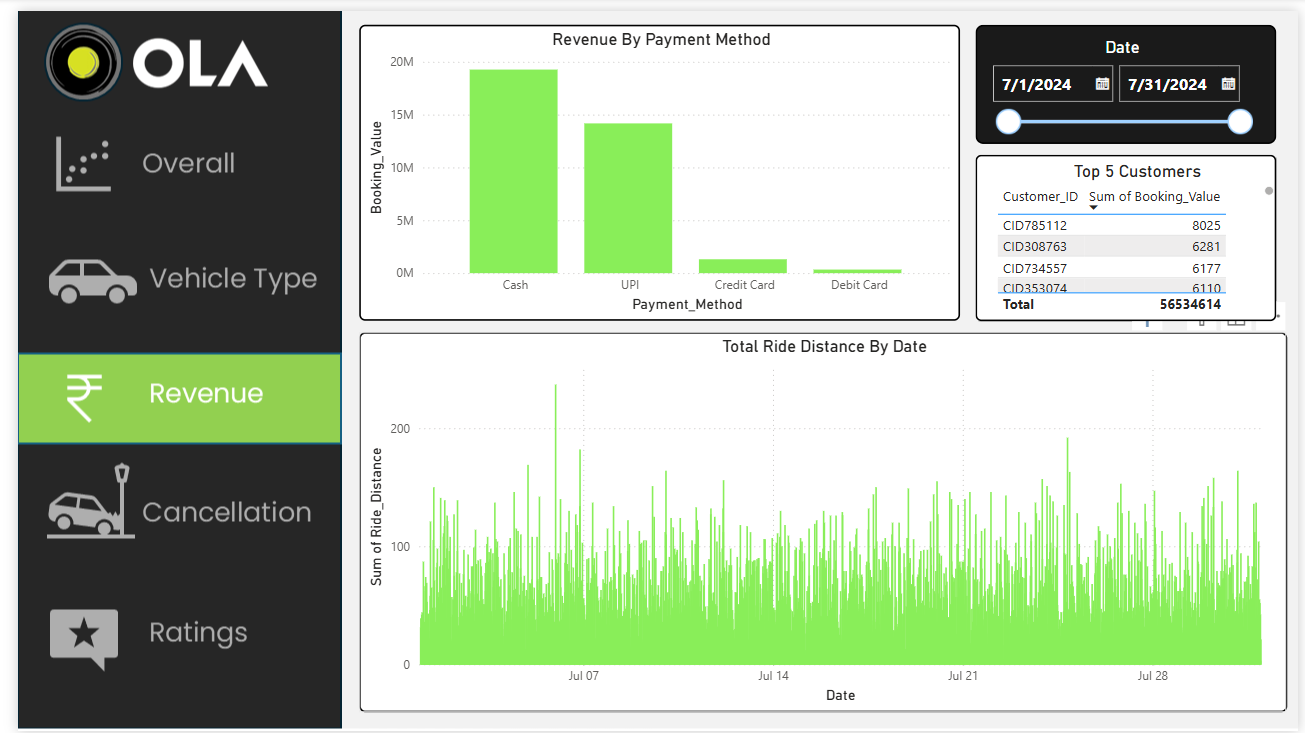

This screenshot's page, from the dashboard's own definition file:
{"tool":"powerbi","page":{"name":"Revenue","canvas":[1280,720],"ordinal":2},"visuals":[{"type":"actionButton","box":[0,217.2,324.5,92.9],"z":0},{"type":"actionButton","box":[0,446.4,324.5,92.9],"z":1000},{"type":"actionButton","box":[1.2,587.5,324.5,92.9],"z":2000},{"type":"actionButton","box":[1.2,339,324.5,92.9],"z":3000},{"type":"actionButton","box":[0,112.2,324.5,92.9],"z":4000},{"type":"columnChart","title":"Revenue By Payment Method","fields":{"Category":["Bookings-100000-Rows - July.Payment_Method"],"Y":["Sum(Bookings-100000-Rows - July.Booking_Value)"]},"box":[341.7,13.7,601,296.4],"z":5000},{"type":"columnChart","title":"Total Ride Distance By Date ","fields":{"Y":["Sum(Bookings-100000-Rows - July.Ride_Distance)"],"Category":["Bookings-100000-Rows - July.Date"]},"box":[341.7,321.1,927.6,380.1],"z":6000},{"type":"slicer","title":"Date ","fields":{"Values":["Bookings-100000-Rows - July.Date"]},"box":[957.8,13.7,300.5,119.4],"z":7000},{"type":"tableEx","title":"Top 5 Customers ","fields":{"Values":["Bookings-100000-Rows - July.Customer_ID","Sum(Bookings-100000-Rows - July.Booking_Value)"]},"box":[957.8,144.1,300.5,166],"z":8000}]}

Visuals, with their boxes in screenshot pixels (x1, y1, x2, y2), scaled from the page's 1280x720 canvas onto the 1305x733 screenshot:
actionButton: region(0, 221, 331, 316)
actionButton: region(0, 454, 331, 549)
actionButton: region(1, 598, 332, 693)
actionButton: region(1, 345, 332, 440)
actionButton: region(0, 114, 331, 209)
"Revenue By Payment Method" columnChart: region(348, 14, 961, 316)
"Total Ride Distance By Date " columnChart: region(348, 327, 1294, 714)
"Date " slicer: region(977, 14, 1283, 136)
"Top 5 Customers " tableEx: region(977, 147, 1283, 316)
